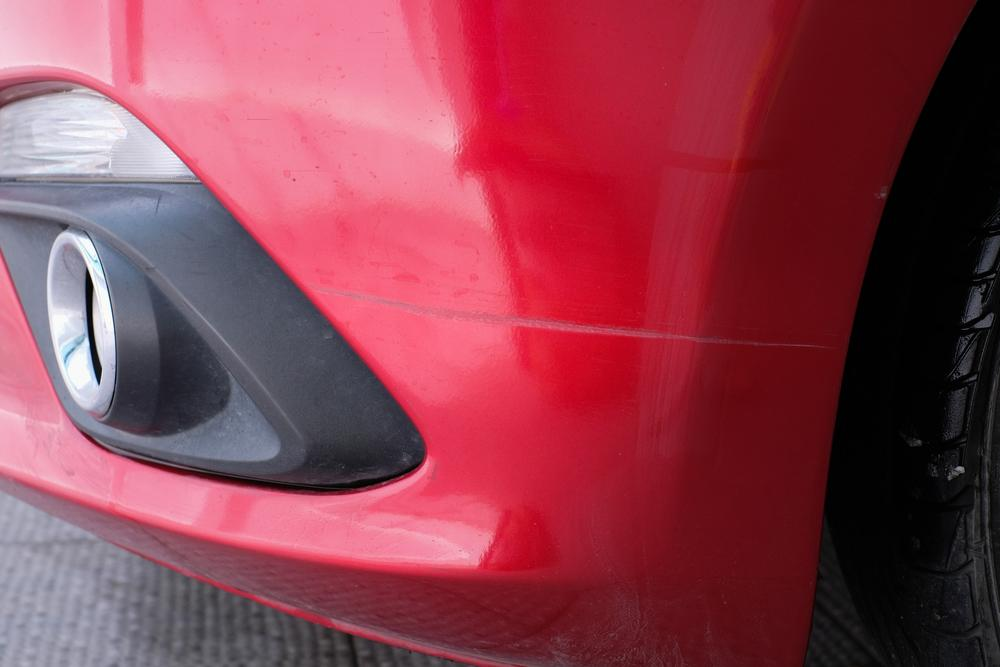scratch: (302, 279, 851, 359)
